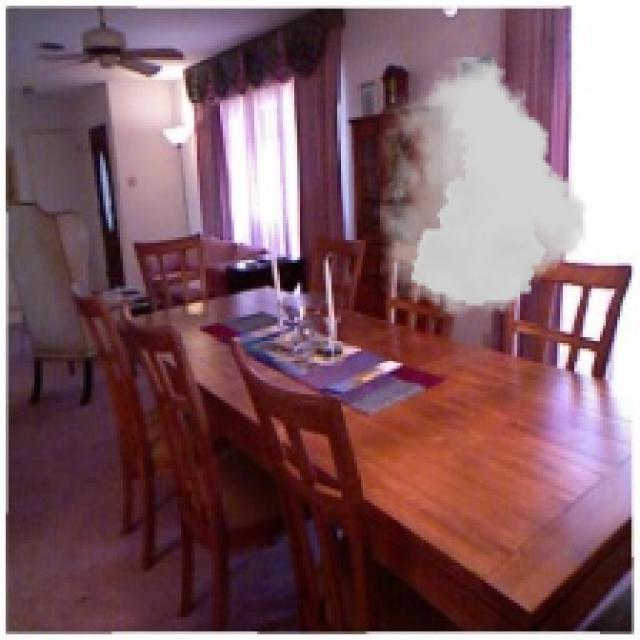smoke: (380, 57, 586, 317)
